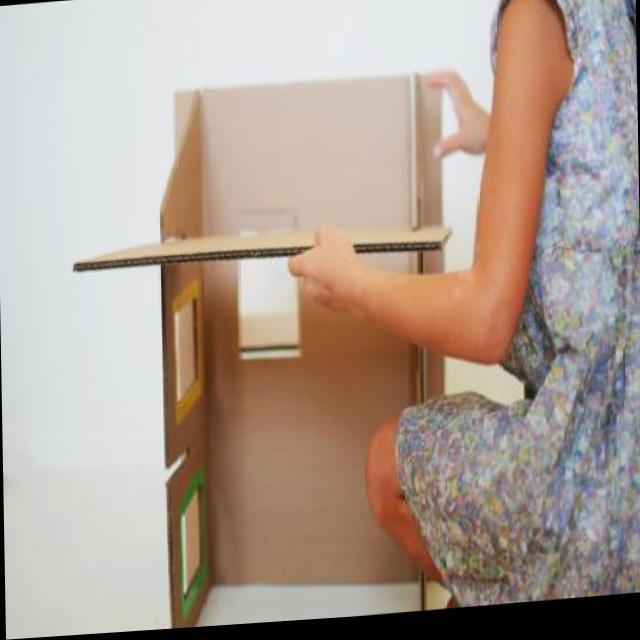box: (65, 37, 478, 637)
